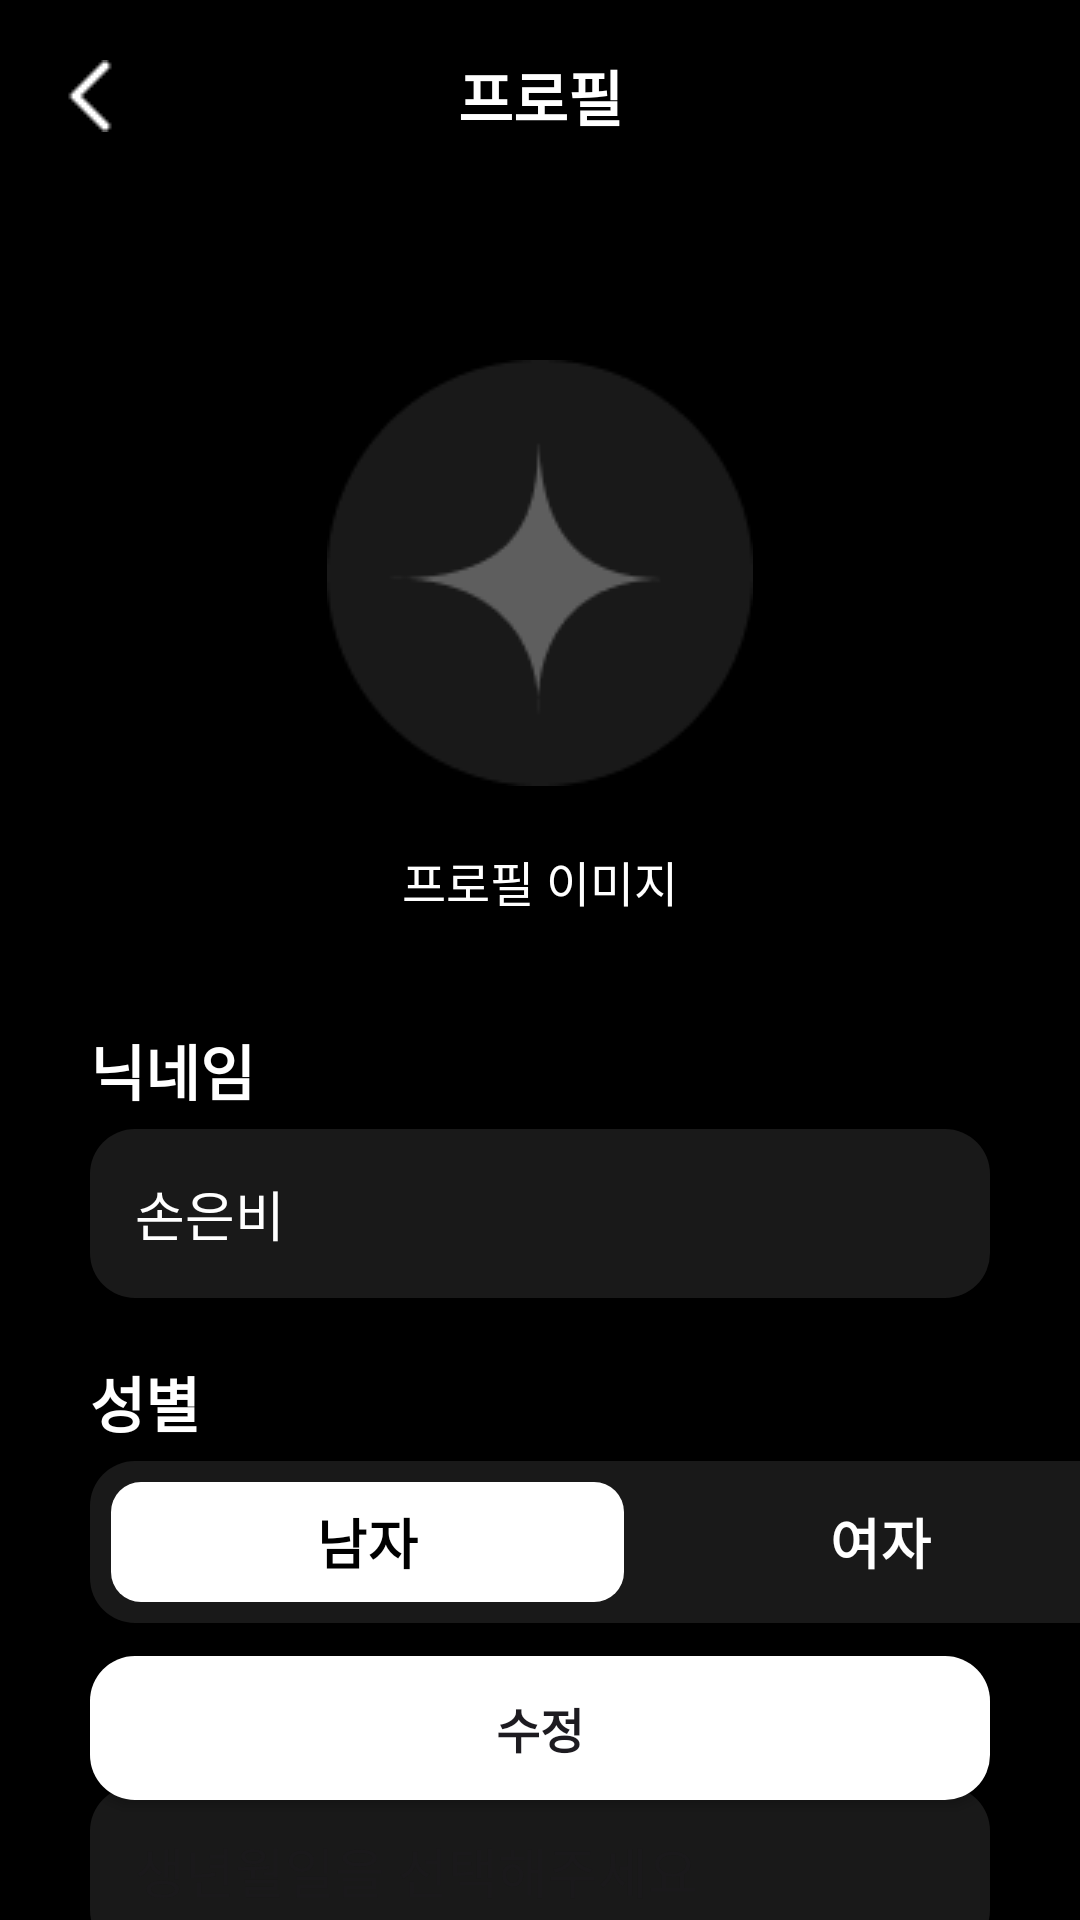

Icon bounding boxes for this 1080px x 1920px phone screenshot, format BBox(x1, y1, x2, y2):
back: BBox(68, 60, 112, 132)
